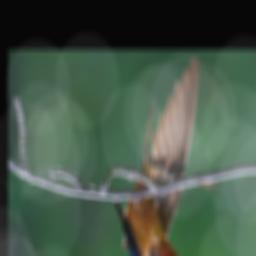Swallow: (106, 55, 202, 256)
